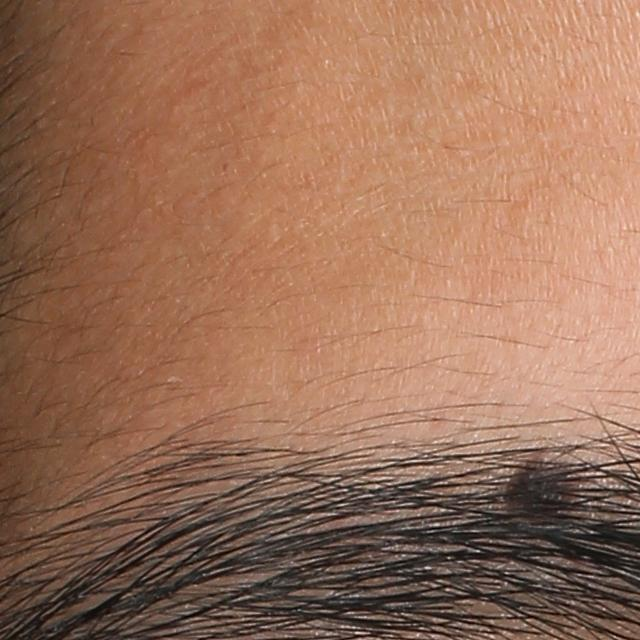nevus: (491, 450, 594, 519)
